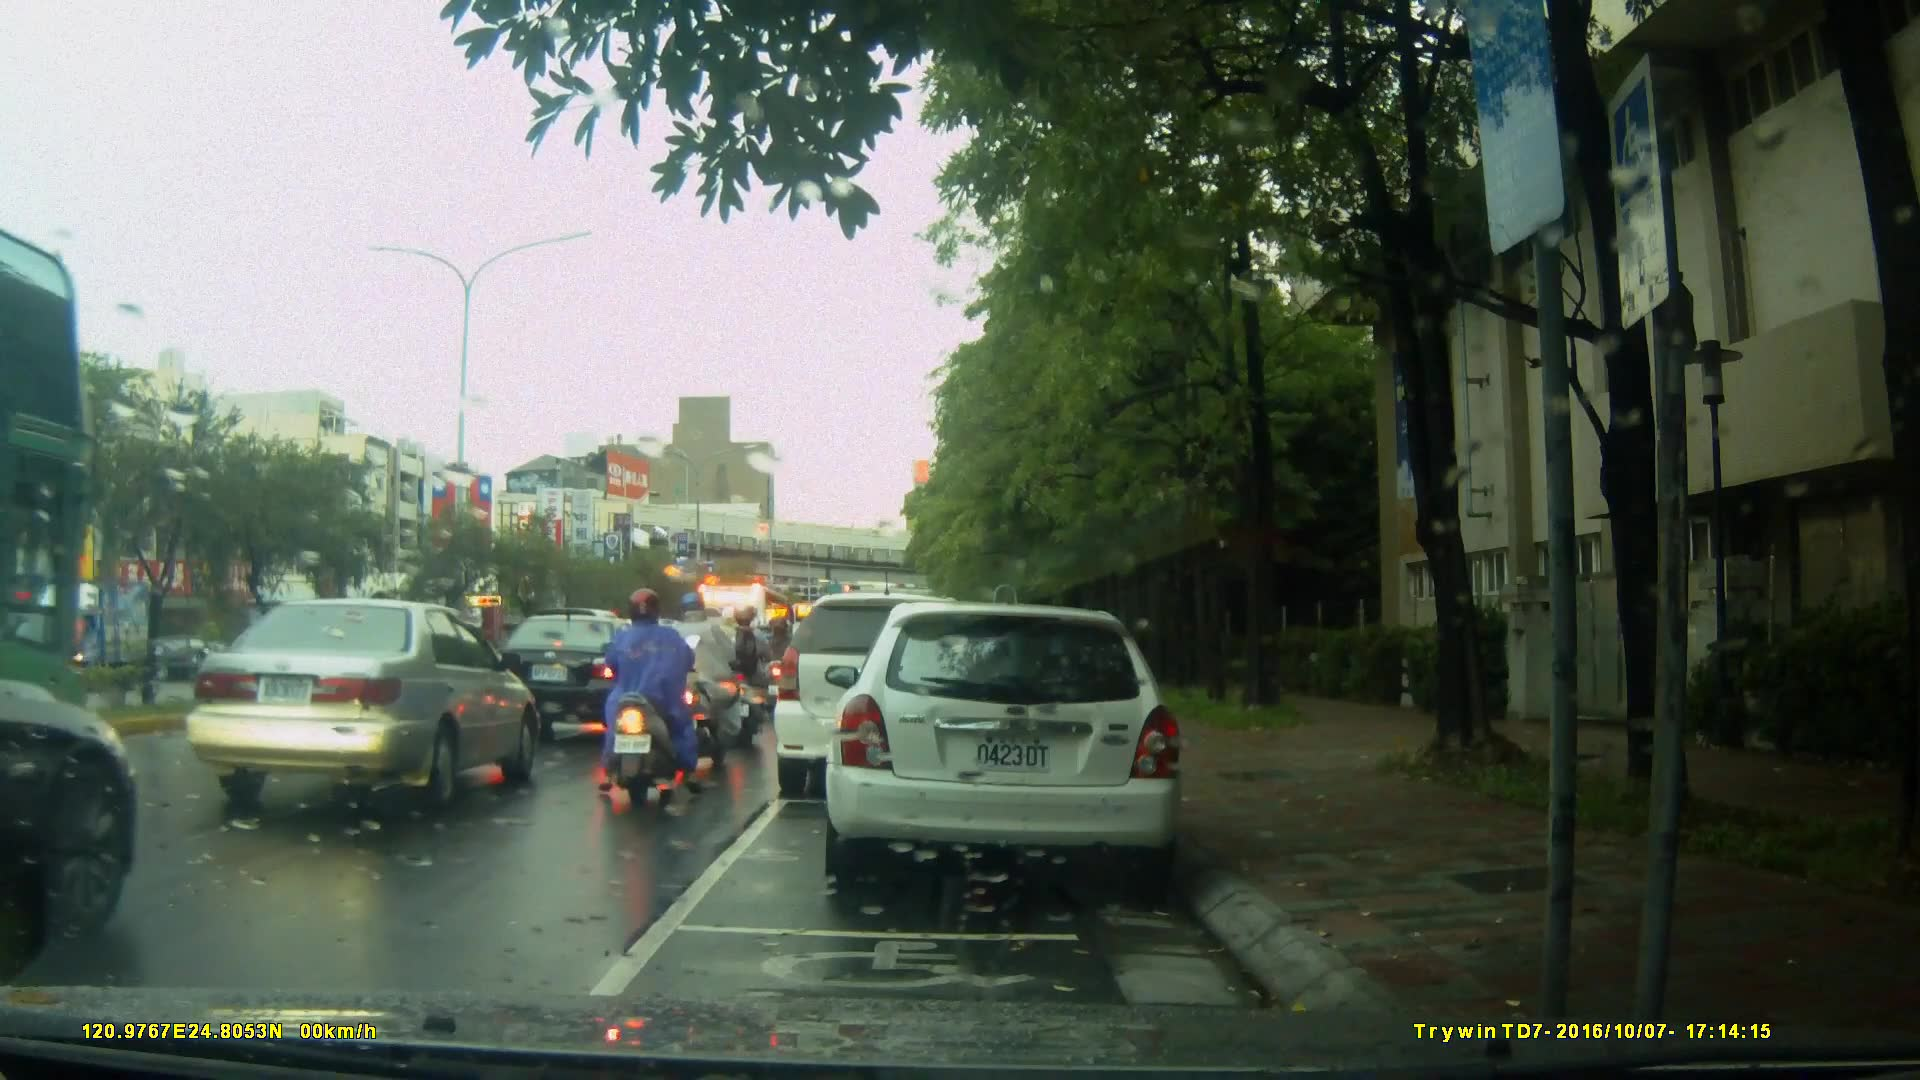rider: (591, 586, 697, 808), (681, 590, 756, 766), (715, 604, 768, 728)
vehicle: (831, 592, 1196, 897), (180, 597, 552, 812), (769, 592, 999, 799), (483, 611, 667, 743), (688, 581, 805, 706), (22, 576, 156, 679)
